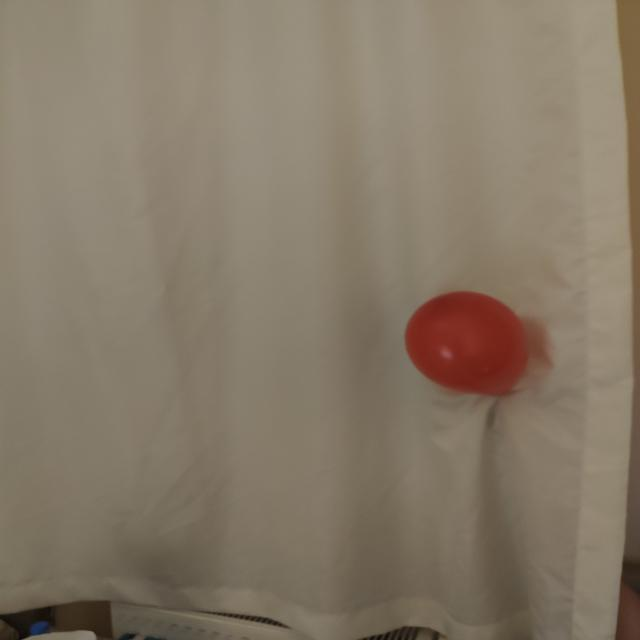balloon: (405, 292, 528, 395)
